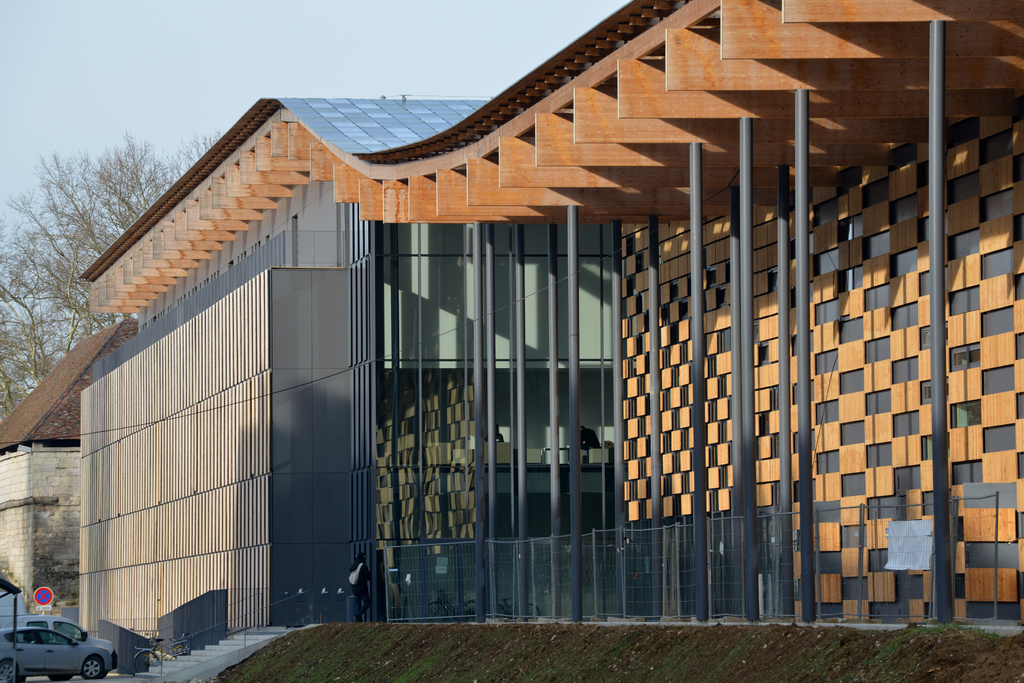Car: (0, 627, 116, 677), (25, 610, 119, 647)
